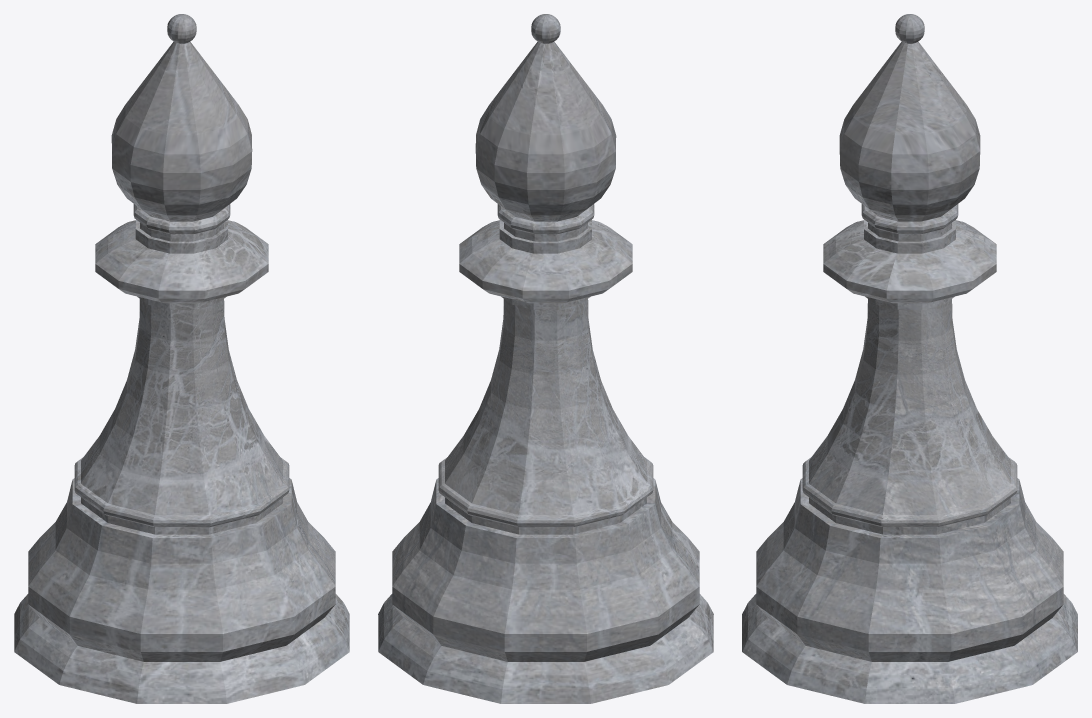
Rendered from bishop.obj.
3 renders of one model, left to right at view 1: azimuth 30°, elevation 25°; view 2: azimuth 150°, elevation 25°; view 3: azimuth 270°, elevation 25°, orthographic.
Visible parts, largest first — view 1: bishop; view 2: bishop; view 3: bishop.
Part boxes in pixels (left/top/right/bottom): bishop: left=14, top=14, right=349, bottom=703; bishop: left=378, top=14, right=713, bottom=703; bishop: left=742, top=14, right=1077, bottom=703.
Size of the model in its own units: 0.1566 by 0.318 by 0.1566.
1 material, 1 textured.
